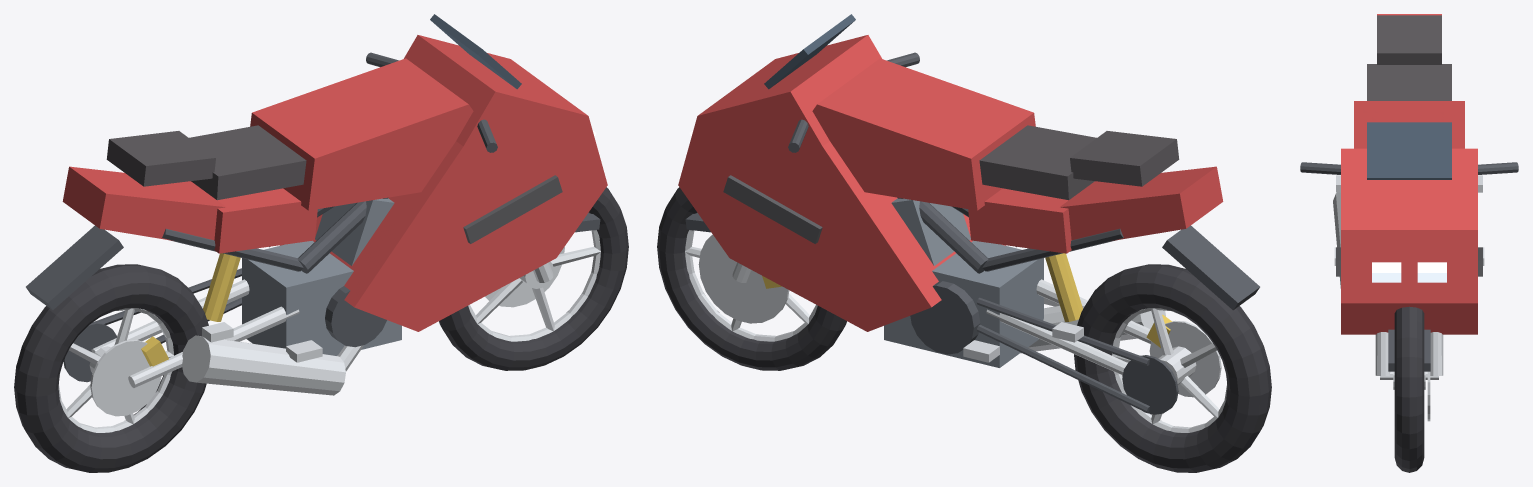
The model's file is suzuki-gsx-r-150-2018-2026.glb.
The picture shows the model from 3 angles, left to right: view 1: azimuth 30°, elevation 25°; view 2: azimuth 150°, elevation 25°; view 3: azimuth 270°, elevation 25°; orthographic projection. The views are drawn at different scales.
Visible parts, largest first — view 1: Bodi_Depan, Bodi_Utama, Roda_Ban, Jok_Motor, Mesin_Blok, Knalpot, Velg_Roda, Piringan_Rem, Spakbor, Rangka, Swing_Arm, Cover_Mesin (+6 smaller); view 2: Bodi_Depan, Bodi_Utama, Roda_Ban, Jok_Motor, Mesin_Blok, Piringan_Rem, Velg_Roda, Rantai, Spakbor, Cover_Mesin, Rangka, Swing_Arm (+6 smaller); view 3: Bodi_Depan, Jok_Motor, Roda_Ban, Windshield_Visor, Bodi_Utama, Suspensi_Depan, Lampu_Depan, Master_Rem_Stang, Spakbor, Knalpot, Aksen_Bodi, Footstep.
Part boxes in pixels (box(x1,y1,x2,y2)): Bodi_Depan: box(280, 35, 607, 331); Bodi_Utama: box(62, 58, 473, 253); Roda_Ban: box(14, 187, 628, 472); Jok_Motor: box(106, 125, 306, 200); Mesin_Blok: box(242, 198, 401, 355); Knalpot: box(182, 335, 363, 395); Velg_Roda: box(58, 230, 600, 432); Piringan_Rem: box(90, 247, 564, 416); Spakbor: box(26, 213, 600, 310); Rangka: box(162, 197, 388, 273); Swing_Arm: box(91, 279, 299, 387); Cover_Mesin: box(325, 286, 386, 347); Bodi_Depan: box(678, 35, 1005, 331); Bodi_Utama: box(812, 58, 1223, 253); Roda_Ban: box(657, 187, 1271, 472); Jok_Motor: box(979, 125, 1179, 200); Mesin_Blok: box(884, 198, 1043, 367); Piringan_Rem: box(698, 234, 1221, 397); Velg_Roda: box(685, 230, 1227, 432); Rantai: box(976, 297, 1178, 414); Spakbor: box(685, 213, 1259, 310); Cover_Mesin: box(910, 281, 980, 354); Rangka: box(897, 197, 1123, 273); Swing_Arm: box(986, 279, 1150, 375); Bodi_Depan: box(1341, 148, 1477, 334); Jok_Motor: box(1367, 15, 1451, 100); Roda_Ban: box(1394, 306, 1424, 472); Windshield_Visor: box(1367, 122, 1451, 179); Bodi_Utama: box(1354, 14, 1464, 148); Suspensi_Depan: box(1375, 332, 1443, 379); Lampu_Depan: box(1372, 262, 1446, 282); Master_Rem_Stang: box(1300, 162, 1518, 174); Spakbor: box(1388, 329, 1430, 371); Knalpot: box(1333, 192, 1340, 288); Aksen_Bodi: box(1336, 247, 1482, 276); Footstep: box(1334, 175, 1484, 265).
Bounding box in the file's own units: 1.9 × 1.05 × 0.6701.
